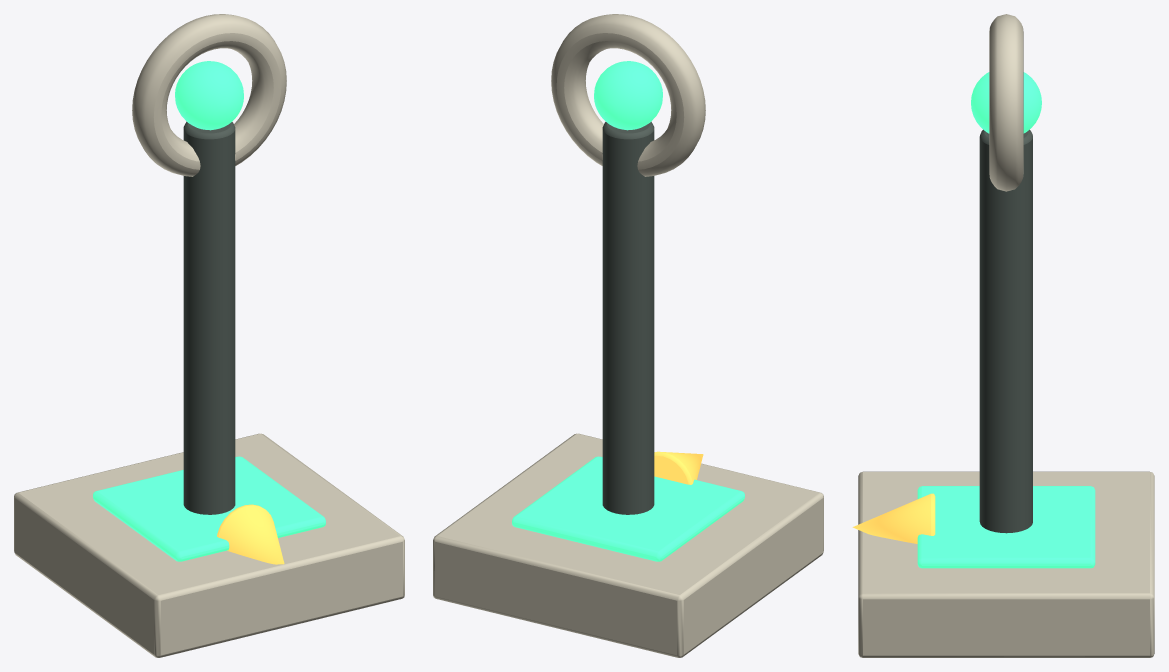
Rendered from zonai_steering_stick-CMz40MUi.glb.
3 renders of one model, left to right at view 1: azimuth 30°, elevation 25°; view 2: azimuth 150°, elevation 25°; view 3: azimuth 270°, elevation 25°, orthographic. The views are drawn at different scales.
Parts seen in each view (by area): view 1: body; view 2: body; view 3: body.
Boxes of the visible parts, x1=… form: body: x1=14, y1=14, x2=404, y2=657; body: x1=433, y1=14, x2=823, y2=657; body: x1=852, y1=14, x2=1154, y2=657.
Bounding box in the file's own units: 0.5 × 1.07 × 0.51.
